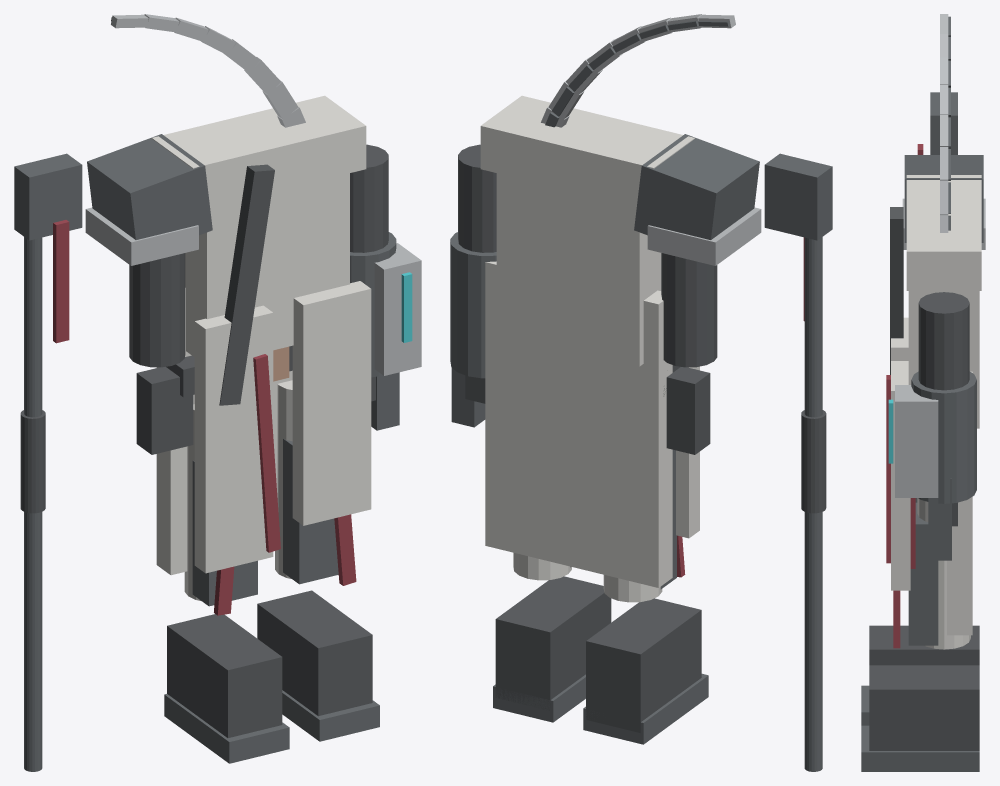
Rendered from ain_outfit_04_Yeonhwa_v01.glb.
The picture shows the model from 3 angles, left to right: view 1: azimuth 30°, elevation 25°; view 2: azimuth 150°, elevation 25°; view 3: azimuth 270°, elevation 25°; orthographic projection. The views are drawn at different scales.
Visible parts, largest first — view 1: coat_front_R, coat_front_L, torso_shell, shoulder_yoke, boot_L, boot_R, left_shoulder_plate, scythe_shaft_3, asym_harness_4, sleeve_L, scythe_head_base_3, right_gauntlet_spine (+20 smaller); view 2: coat_back, torso_shell, shoulder_yoke, boot_L, boot_R, left_shoulder_plate, scythe_shaft_3, sleeve_L, scythe_head_base_3, right_gauntlet, sleeve_R, pouch_L (+8 smaller); view 3: boot_R, shoulder_yoke, right_gauntlet, sleeve_R, right_gauntlet_spine, shin_plate_R, coat_back, boot_L, boot_sole_R, coat_front_R, torso_shell, left_shoulder_plate (+16 smaller).
Boxes of the visible parts, x1,y1,x2,y2 form: coat_front_R: [292, 281, 371, 525]; coat_front_L: [194, 305, 273, 573]; torso_shell: [185, 173, 349, 356]; shoulder_yoke: [151, 95, 366, 207]; boot_L: [167, 614, 282, 737]; boot_R: [257, 590, 372, 716]; left_shoulder_plate: [87, 134, 212, 239]; scythe_shaft_3: [24, 237, 42, 771]; asym_harness_4: [219, 164, 274, 405]; sleeve_L: [129, 253, 185, 367]; scythe_head_base_3: [14, 153, 82, 240]; right_gauntlet_spine: [374, 243, 421, 375]; coat_back: [485, 261, 672, 587]; torso_shell: [496, 173, 661, 366]; shoulder_yoke: [480, 95, 694, 207]; boot_L: [586, 598, 701, 732]; boot_R: [495, 576, 611, 710]; left_shoulder_plate: [634, 134, 759, 239]; scythe_shaft_3: [804, 237, 822, 771]; sleeve_L: [661, 253, 717, 367]; scythe_head_base_3: [764, 153, 832, 240]; right_gauntlet: [450, 232, 496, 378]; sleeve_R: [458, 144, 496, 252]; pouch_L: [666, 367, 710, 454]; boot_R: [869, 665, 979, 750]; shoulder_yoke: [906, 175, 981, 290]; right_gauntlet: [911, 371, 976, 503]; sleeve_R: [918, 292, 969, 390]; right_gauntlet_spine: [895, 385, 938, 497]; shin_plate_R: [908, 502, 938, 645]; coat_back: [947, 371, 972, 635]; boot_L: [869, 625, 979, 665]; boot_sole_R: [861, 725, 979, 771]; coat_front_R: [891, 361, 910, 590]; torso_shell: [908, 291, 979, 428]; left_shoulder_plate: [904, 155, 983, 242].
Size of the model in its own units: 0.99 by 1.86 by 0.315.
